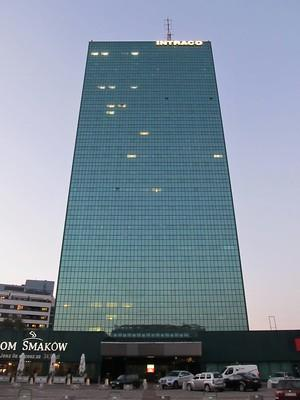building: (49, 38, 250, 350)
